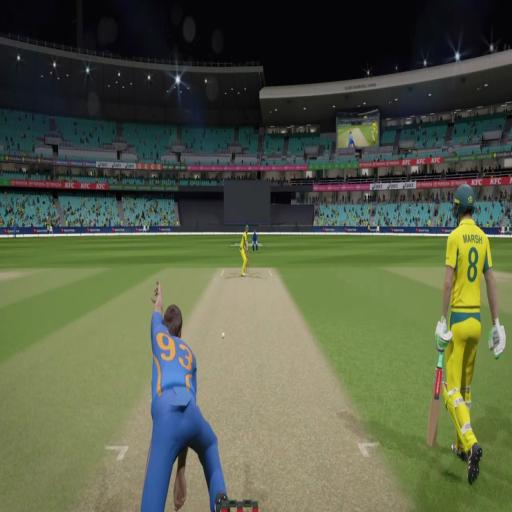ball: (220, 328, 225, 341)
